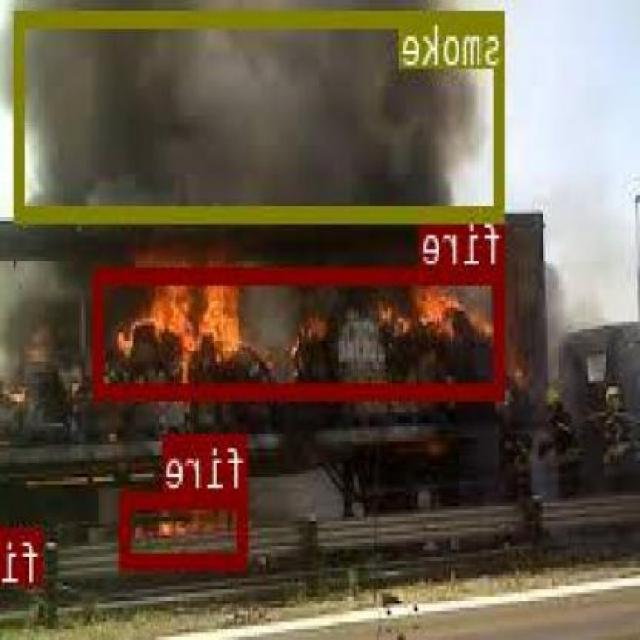Fire: (96, 267, 507, 396), (122, 488, 250, 566), (14, 524, 46, 553)
Smoke: (18, 7, 506, 220)
